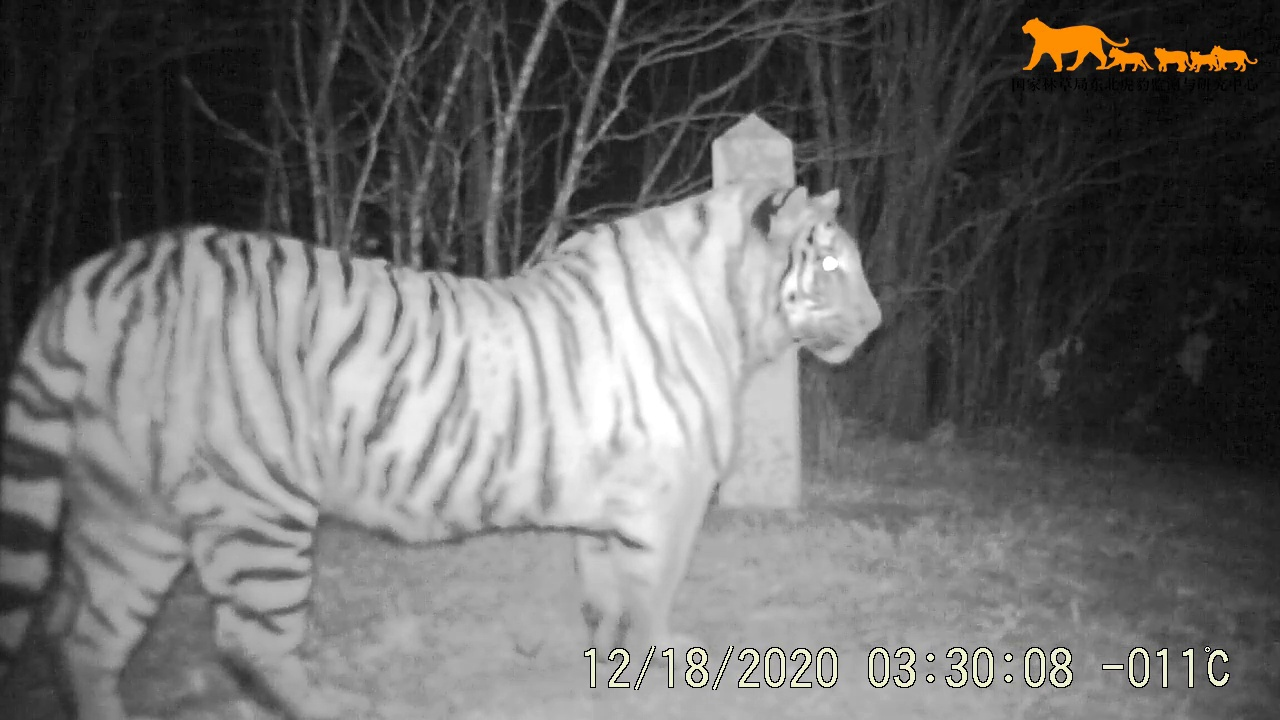Tiger: (1, 148, 896, 720)
